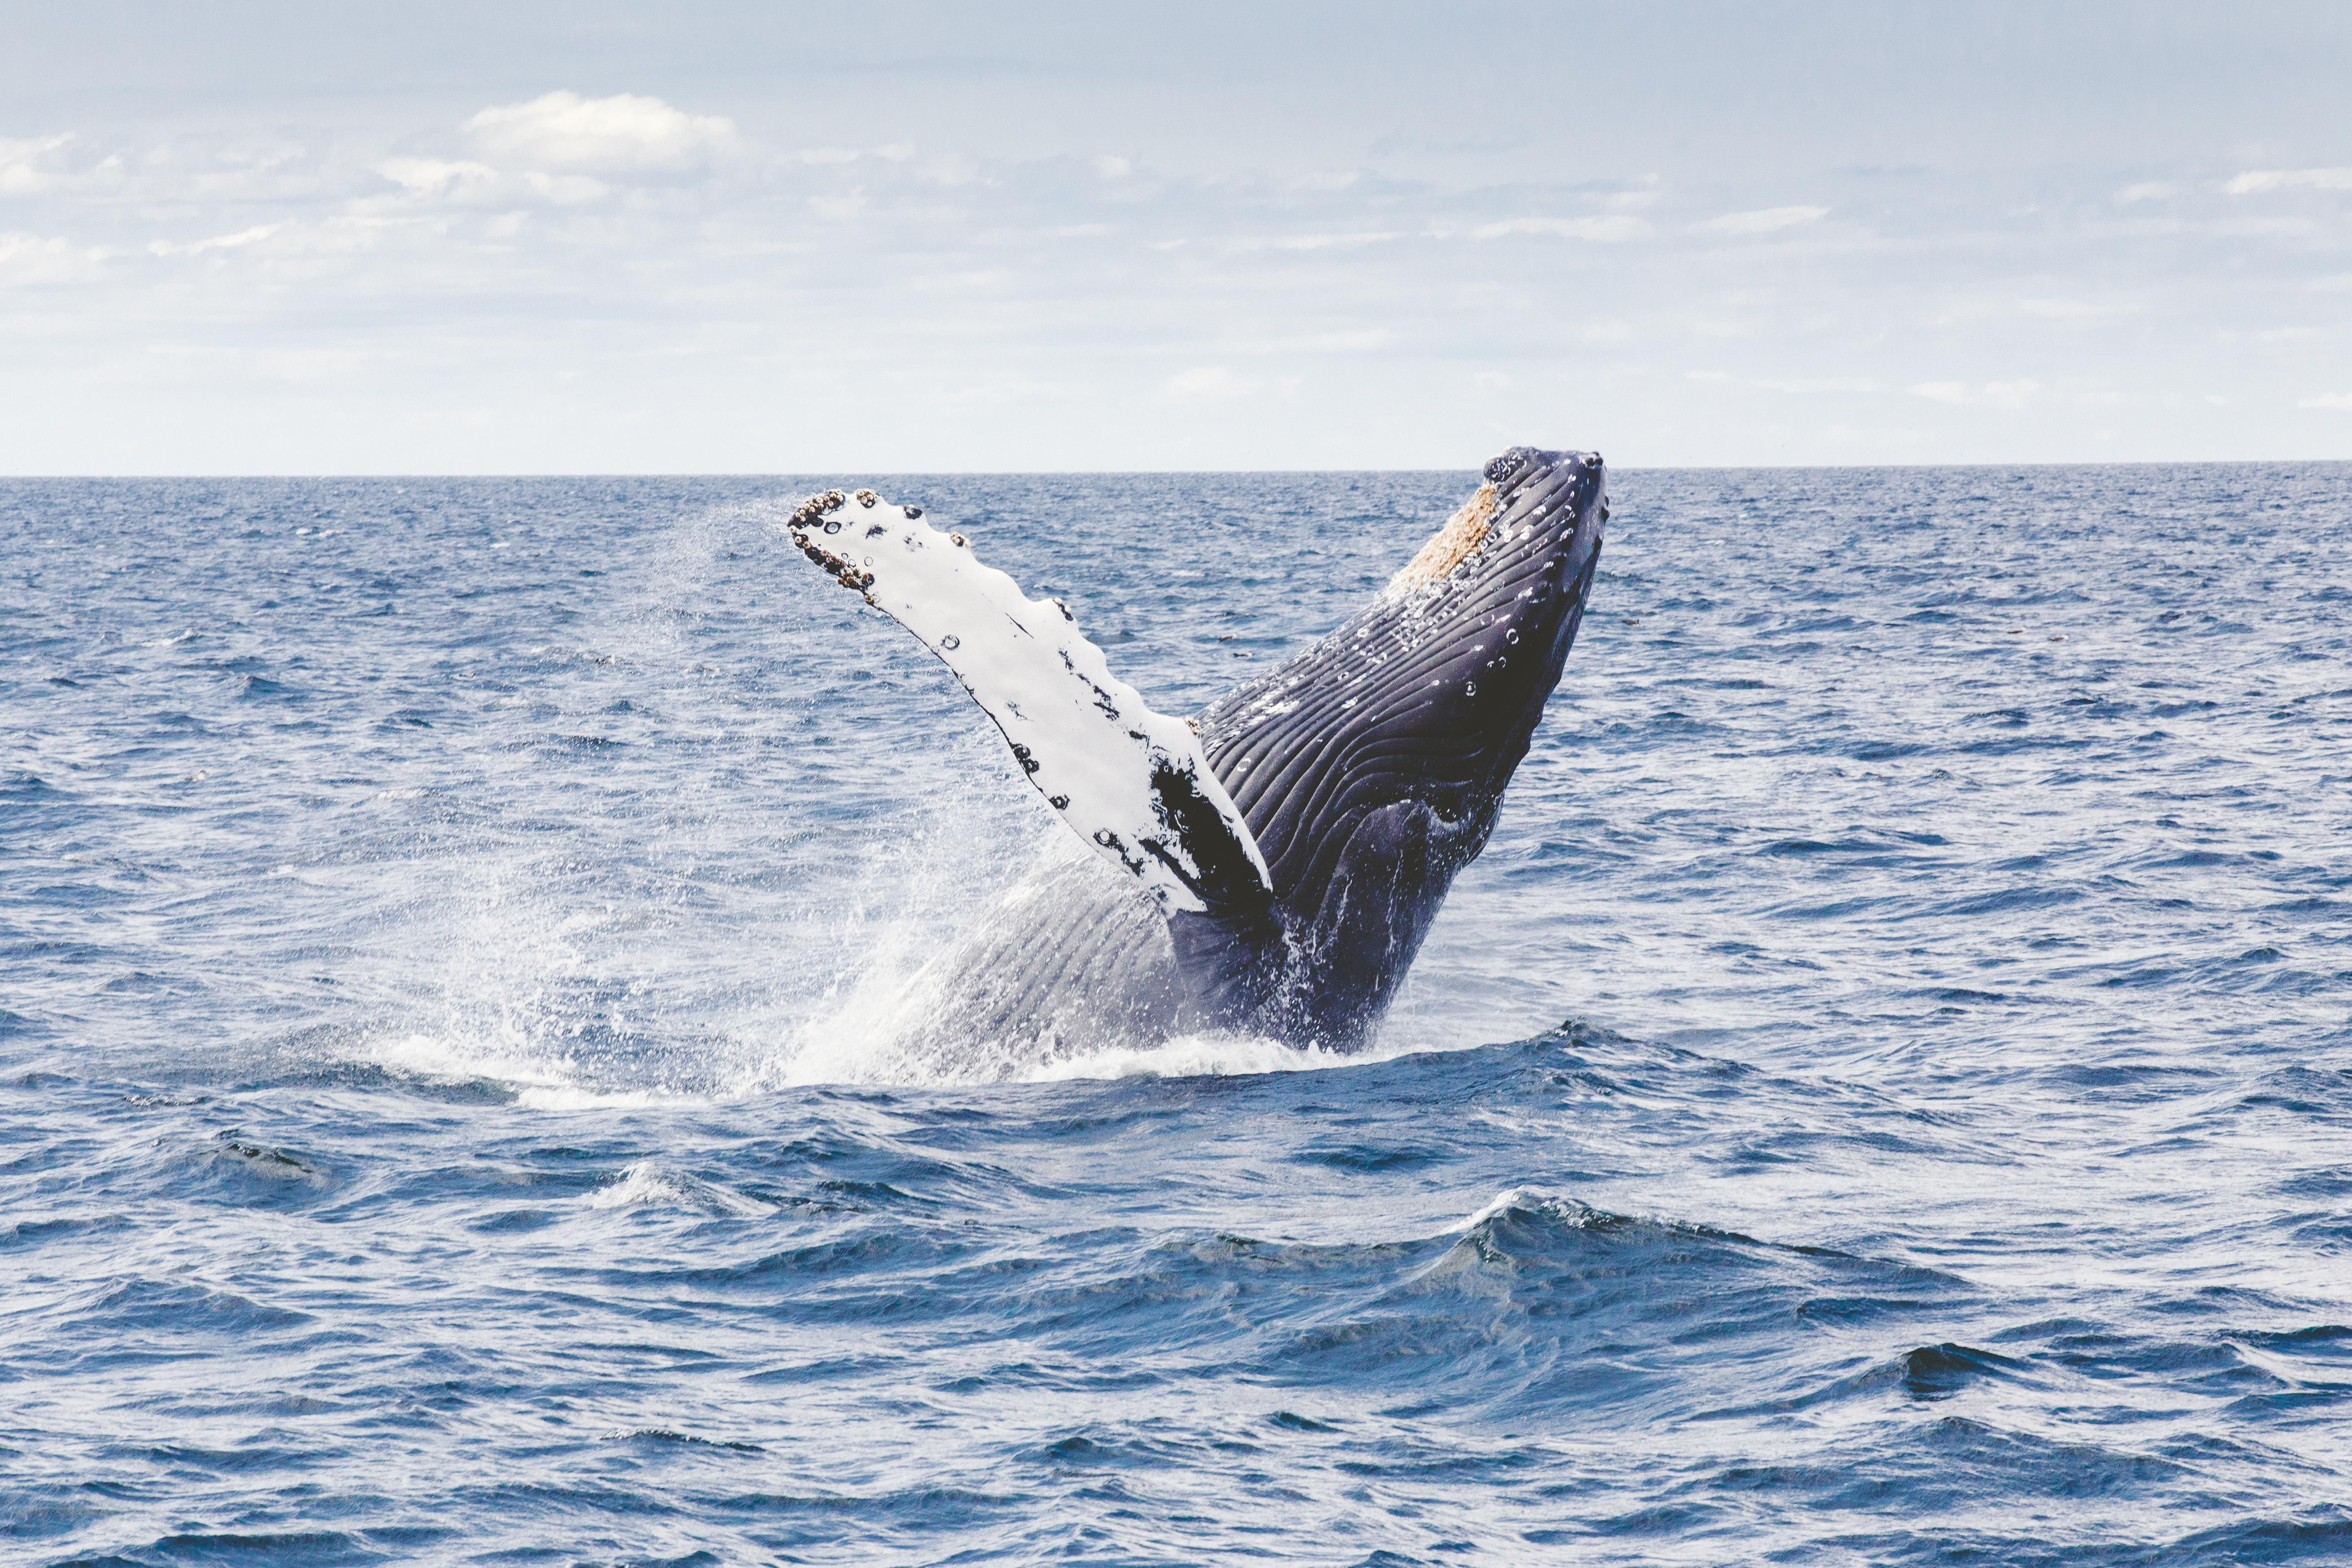fish: (777, 432, 1617, 1125)
